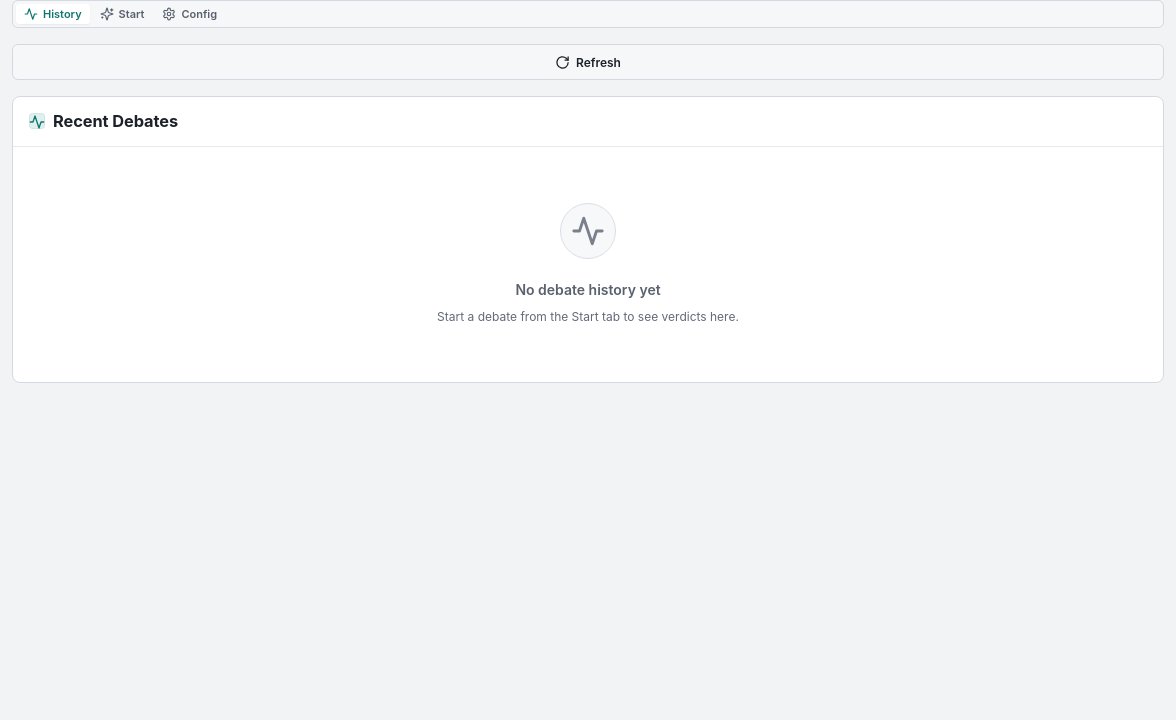
Test: Debate.vue › switches to start tab and shows the start form
The image size is (1176, 720).
Note: tabOptions: history, start, config → start is index 1
Click the radio button with class "segmented__item" showing "Start".
click(122, 14)  # box [92,4,152,24]
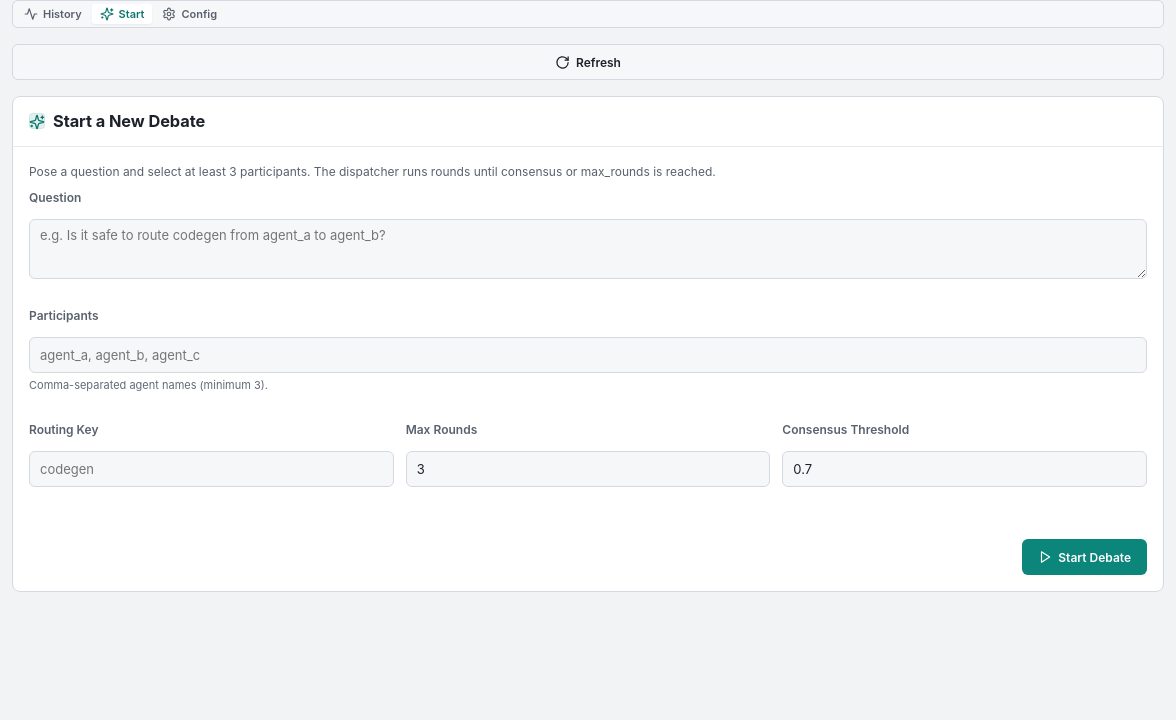
Expected: the element with class "form" is shown, [29,189,1147,575]
Expected: the text "Start a New Debate" is shown, [53,109,205,134]
